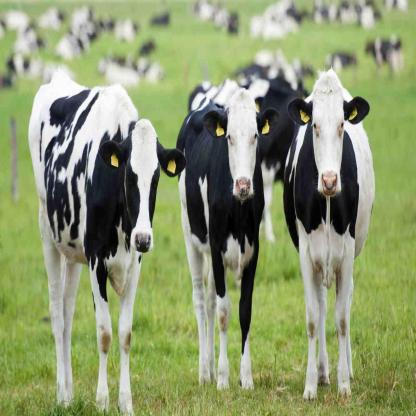cow: (28, 77, 186, 416), (177, 88, 278, 389), (284, 75, 376, 403), (364, 36, 403, 80)
